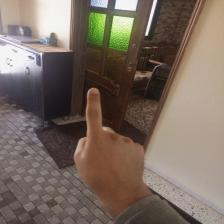one: (69, 84, 149, 197)
